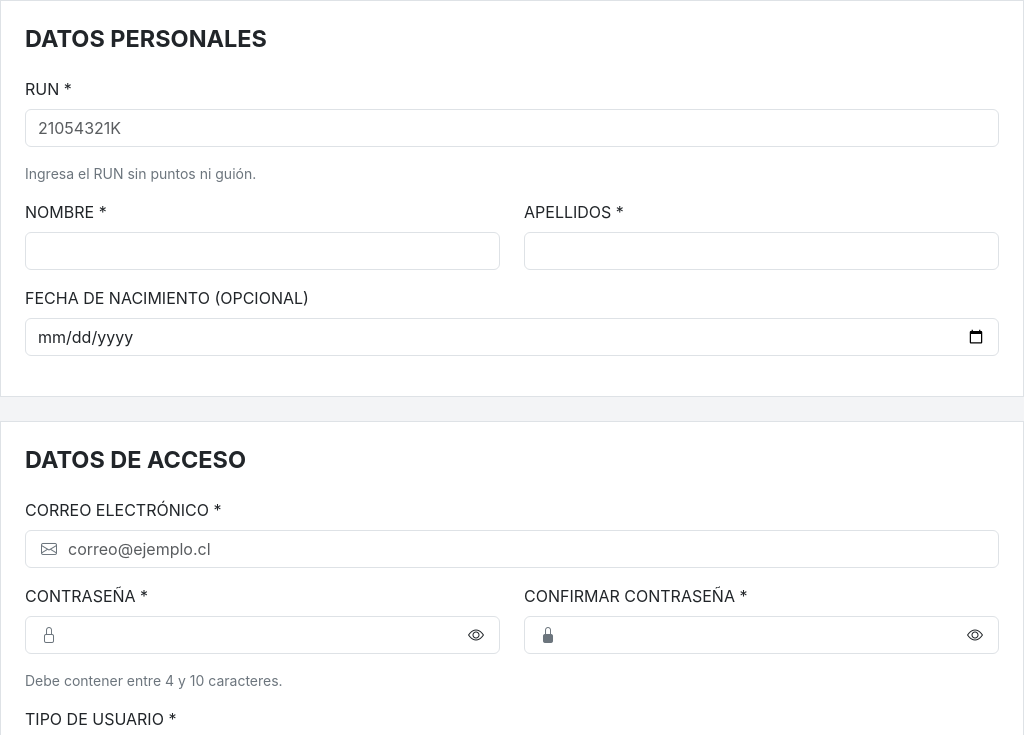
muestra un error cuando el RUN no es válido
This screenshot has width=1024, height=735.
Type "12345678K" into the field labelled "RUN *" at x=512, y=128, box [25,109,999,147]
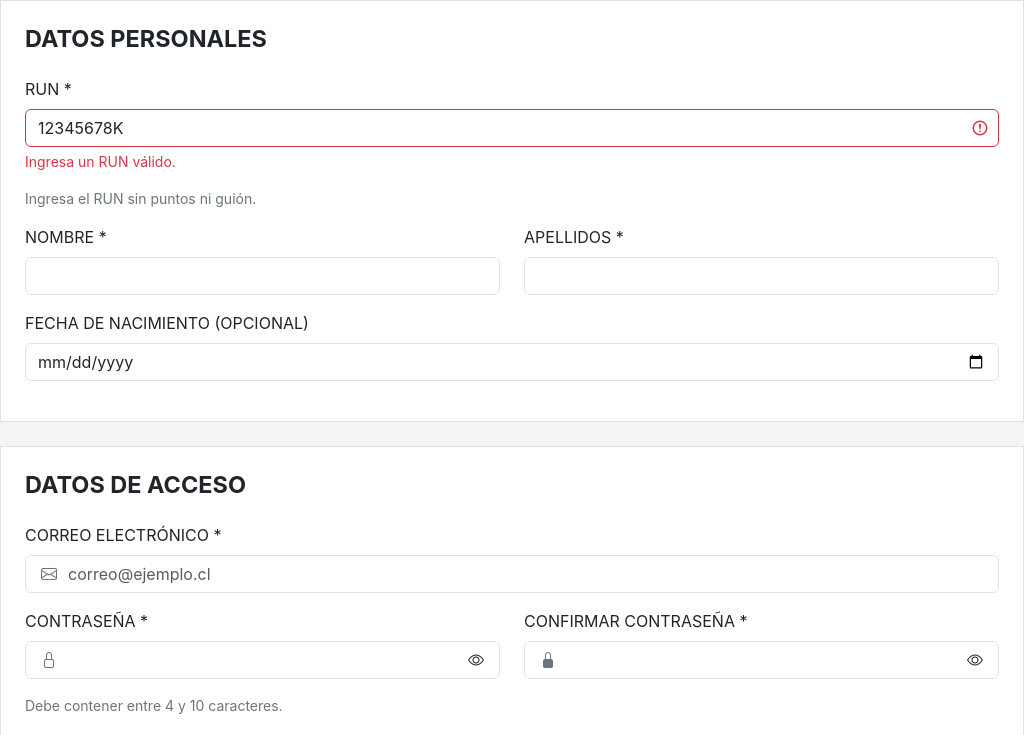
Expected: the text "Ingresa un RUN válido." is shown, [25,153,176,170]
